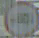Heavy Vehicles: (2, 2, 37, 37)
